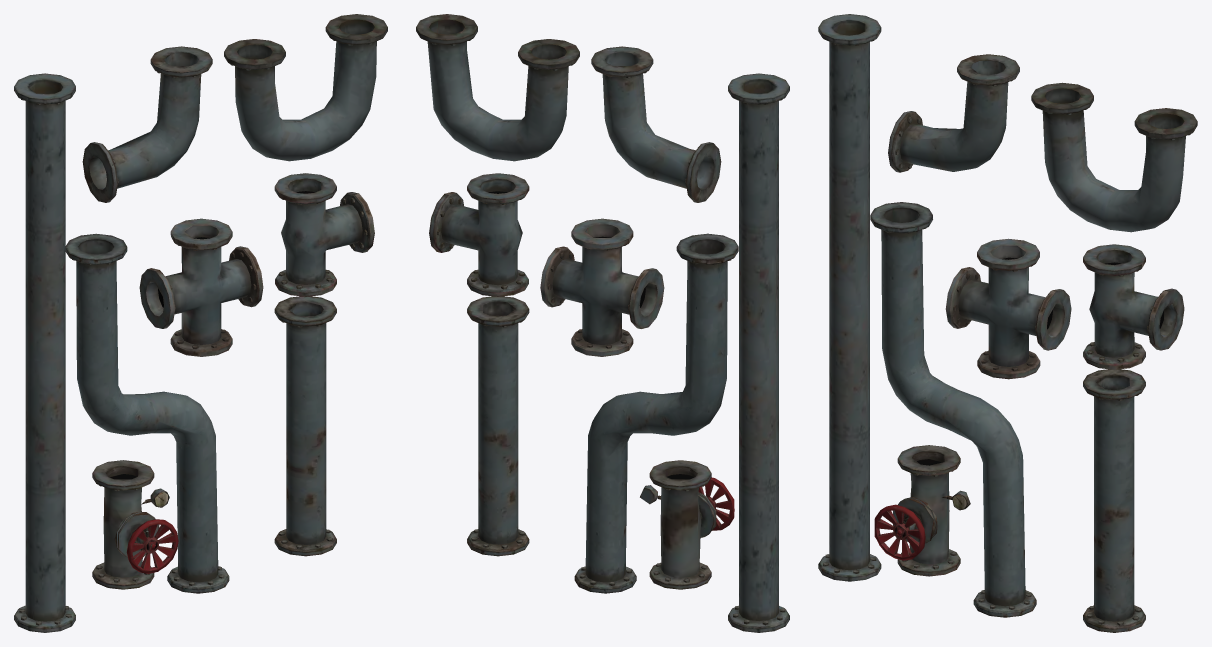
Rendered from modular_industrial_pipes_01_lod1.glb.
The picture shows the model from 3 angles, left to right: view 1: azimuth 30°, elevation 25°; view 2: azimuth 150°, elevation 25°; view 3: azimuth 330°, elevation 25°; orthographic projection.
Visible parts, largest first — view 1: modular_industrial_pipes_01_pipe01, modular_industrial_pipes_01_pipe05; view 2: modular_industrial_pipes_01_pipe01, modular_industrial_pipes_01_pipe05; view 3: modular_industrial_pipes_01_pipe01, modular_industrial_pipes_01_pipe05.
Part boxes in pixels (left/top/right/bottom): modular_industrial_pipes_01_pipe01: left=14, top=46, right=336, bottom=632; modular_industrial_pipes_01_pipe05: left=92, top=14, right=387, bottom=589; modular_industrial_pipes_01_pipe01: left=467, top=46, right=789, bottom=632; modular_industrial_pipes_01_pipe05: left=416, top=14, right=734, bottom=589; modular_industrial_pipes_01_pipe01: left=818, top=14, right=1145, bottom=632; modular_industrial_pipes_01_pipe05: left=874, top=82, right=1197, bottom=576.
Bounding box in the file's own units: 1.4 × 1.95 × 0.3072.
Materials: 2 (2 with a texture image).
